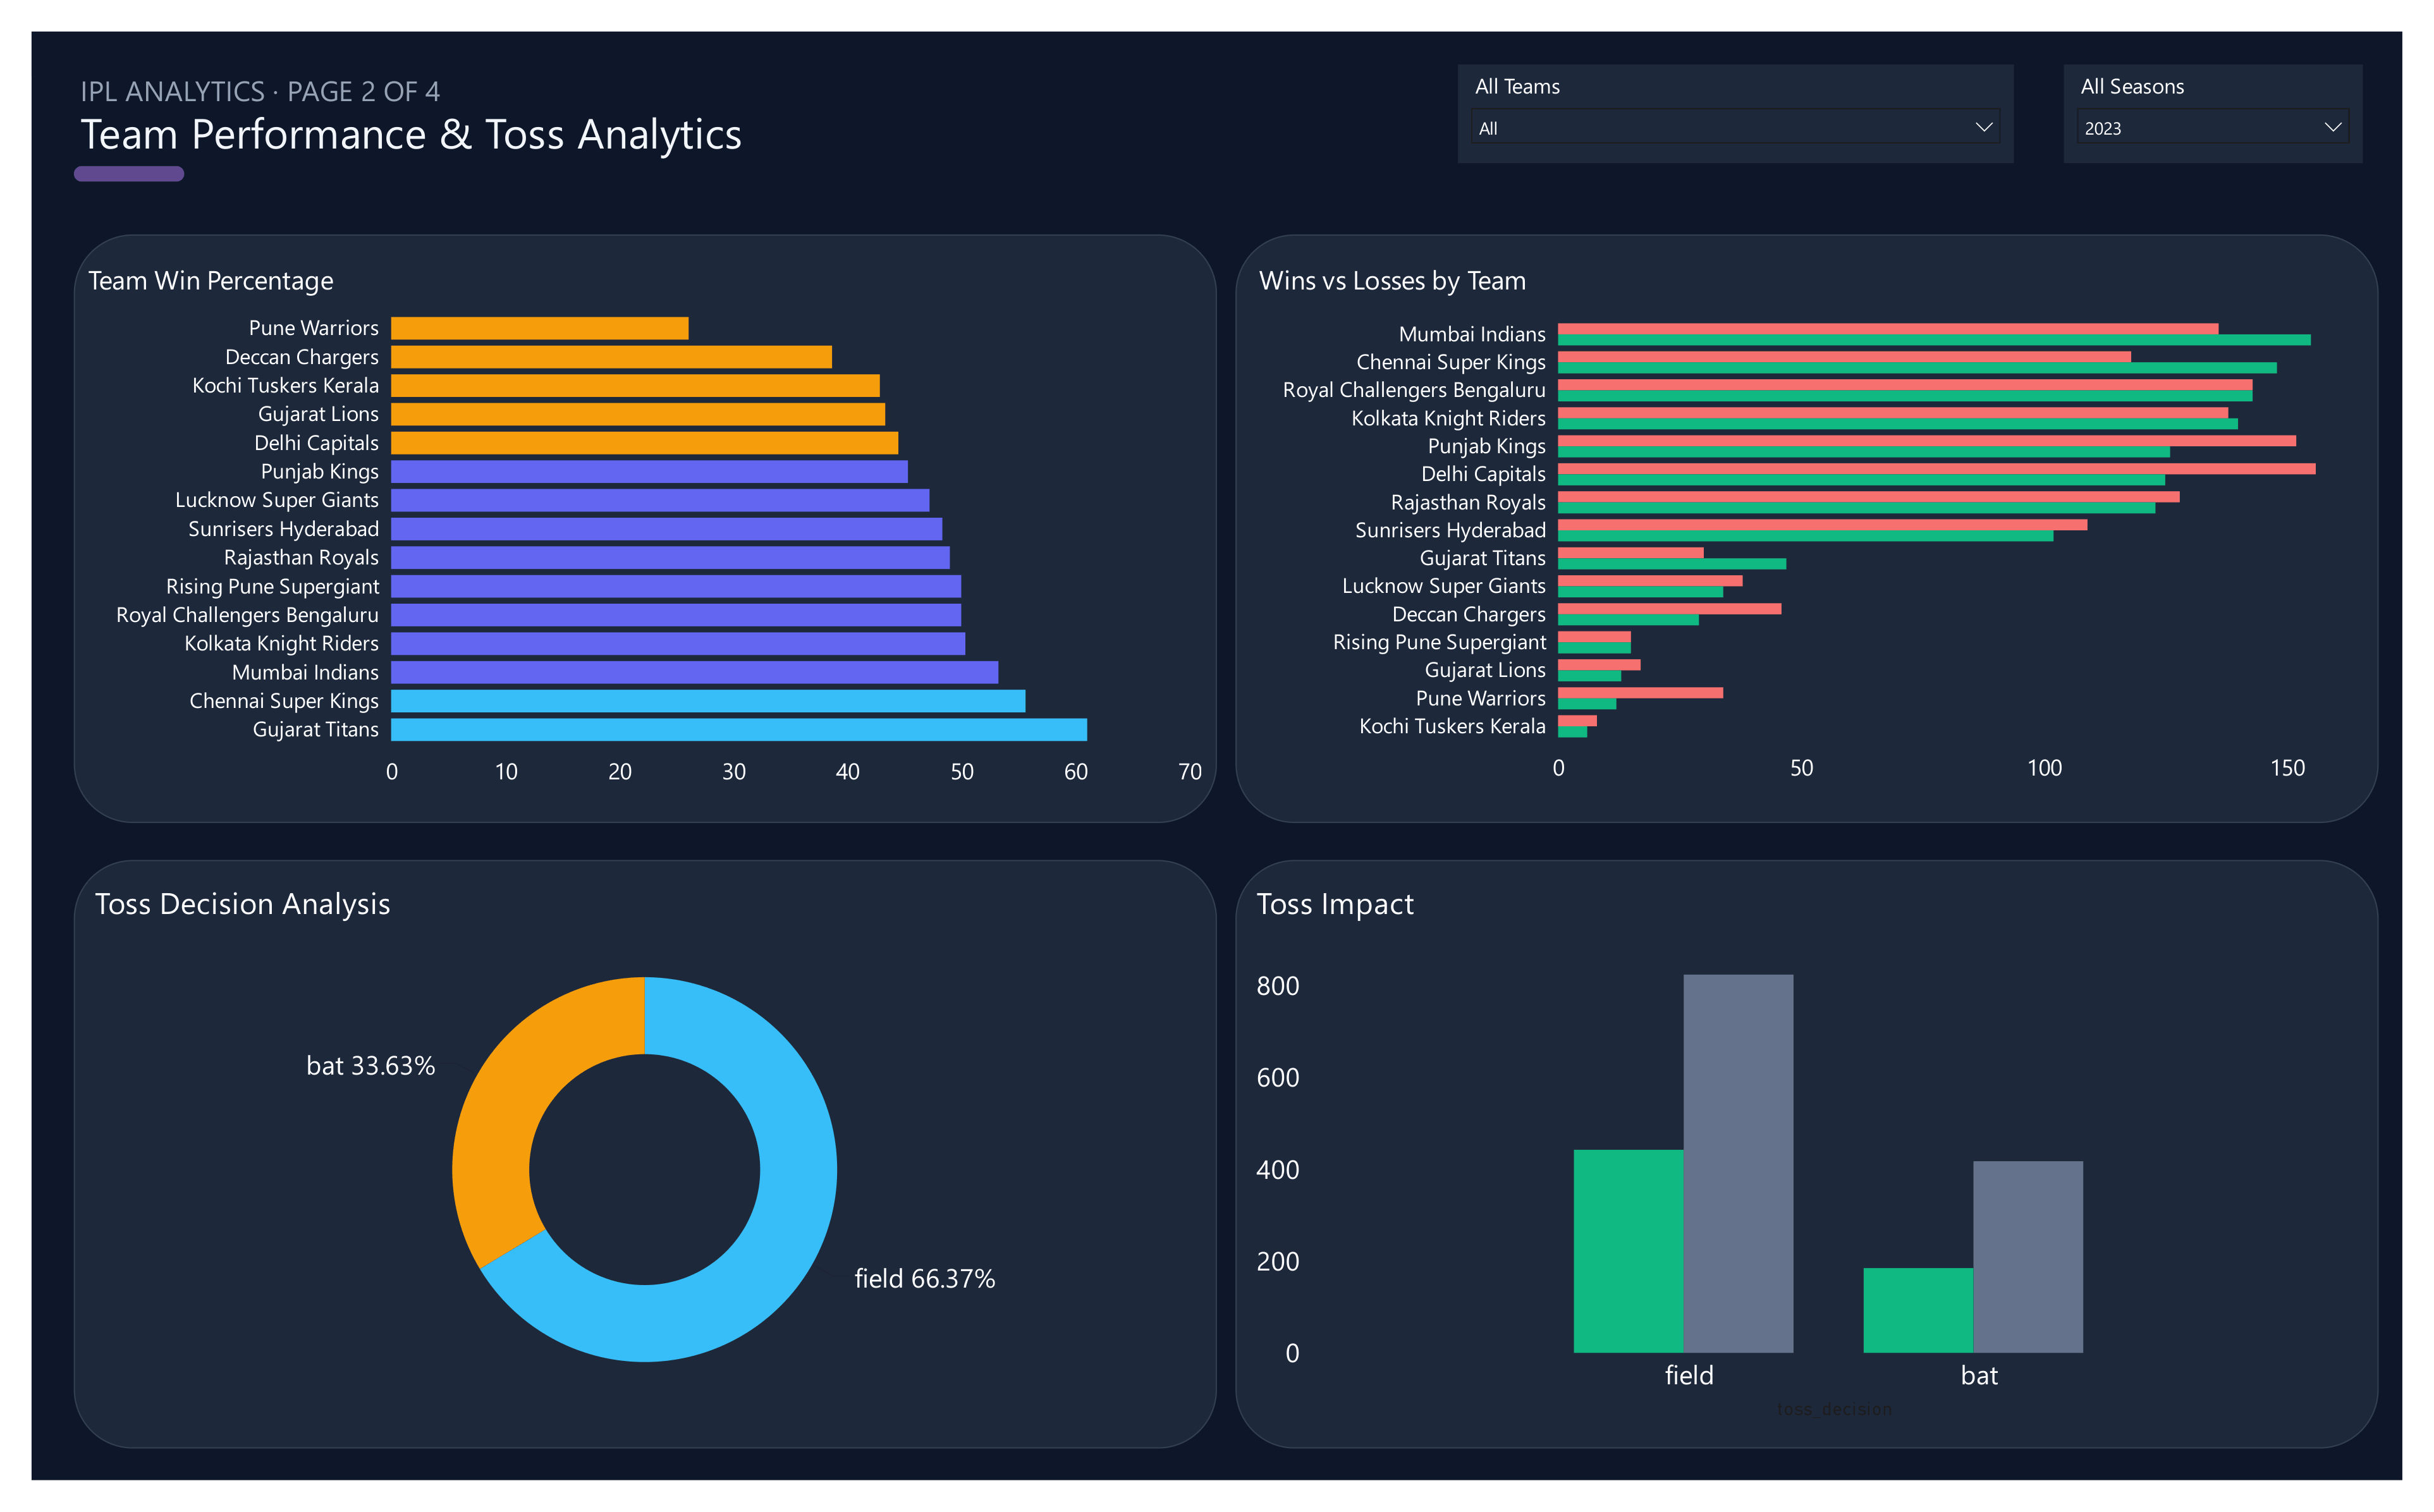

What the dashboard file says about the page in this screenshot:
{"tool":"powerbi","page":{"name":"Team Performance & Toss ","canvas":[1800,1100],"ordinal":1},"visuals":[{"type":"textbox","box":[32,24,304,46],"z":0},{"type":"textbox","box":[31.8,48.5,517.9,59.1],"z":1000},{"type":"shape","box":[32,102,84,12],"z":2000},{"type":"shape","box":[32.3,154.1,867.3,447.3],"z":3000},{"type":"shape","box":[32.3,628.7,867.3,447.3],"z":4000},{"type":"shape","box":[914.5,154.1,867.3,447.3],"z":5000},{"type":"shape","box":[914.5,628.7,867.3,447.3],"z":6000},{"type":"clusteredBarChart","title":"Team Win Percentage","fields":{"Category":["vw_team_performance.team"],"Y":["Sum(vw_team_performance.win_percentage)"]},"box":[42.5,172.5,845,407.5],"z":7000},{"type":"clusteredBarChart","title":"Wins vs Losses by Team","fields":{"Category":["vw_team_performance.team"],"Y":["Sum(vw_team_performance.matches_lost)","Sum(vw_team_performance.matches_won)"]},"box":[926.7,173.3,841.7,408.3],"z":8000},{"type":"donutChart","title":"Toss Decision Analysis","fields":{"Category":["vw_toss_impact.toss_decision"],"Y":["Sum(vw_toss_impact.total_matches)"]},"box":[43.3,645,845,411.7],"z":9000},{"type":"clusteredColumnChart","title":"Toss Impact","fields":{"Category":["vw_toss_impact.toss_decision"],"Y":["Sum(vw_toss_impact.toss_winner_wins)","Sum(vw_toss_impact.total_matches)"]},"box":[925,645,845,412.5],"z":10000},{"type":"slicer","fields":{"Values":["vw_team_performance.team"]},"box":[1082.5,25,422.5,75],"z":11000},{"type":"slicer","fields":{"Values":["vw_season_trends.season"]},"box":[1542.5,25,227.5,75],"z":12000}]}

Visuals, with their boxes on the page's 1800x1100 design canvas (x1, y1, x2, y2). These are canvas units, not pixel positions in the 2434x1512 screenshot, which may show the page scaled, cropped or inside an application window:
textbox: x1=32 y1=24 x2=336 y2=70
textbox: x1=32 y1=48 x2=550 y2=108
shape: x1=32 y1=102 x2=116 y2=114
shape: x1=32 y1=154 x2=900 y2=601
shape: x1=32 y1=629 x2=900 y2=1076
shape: x1=914 y1=154 x2=1782 y2=601
shape: x1=914 y1=629 x2=1782 y2=1076
"Team Win Percentage" clusteredBarChart: x1=42 y1=172 x2=888 y2=580
"Wins vs Losses by Team" clusteredBarChart: x1=927 y1=173 x2=1768 y2=582
"Toss Decision Analysis" donutChart: x1=43 y1=645 x2=888 y2=1057
"Toss Impact" clusteredColumnChart: x1=925 y1=645 x2=1770 y2=1058
slicer - vw_team_performance.team: x1=1082 y1=25 x2=1505 y2=100
slicer - vw_season_trends.season: x1=1542 y1=25 x2=1770 y2=100
